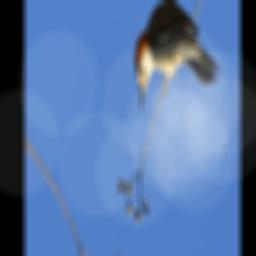Woodpecker: (127, 0, 224, 119)
